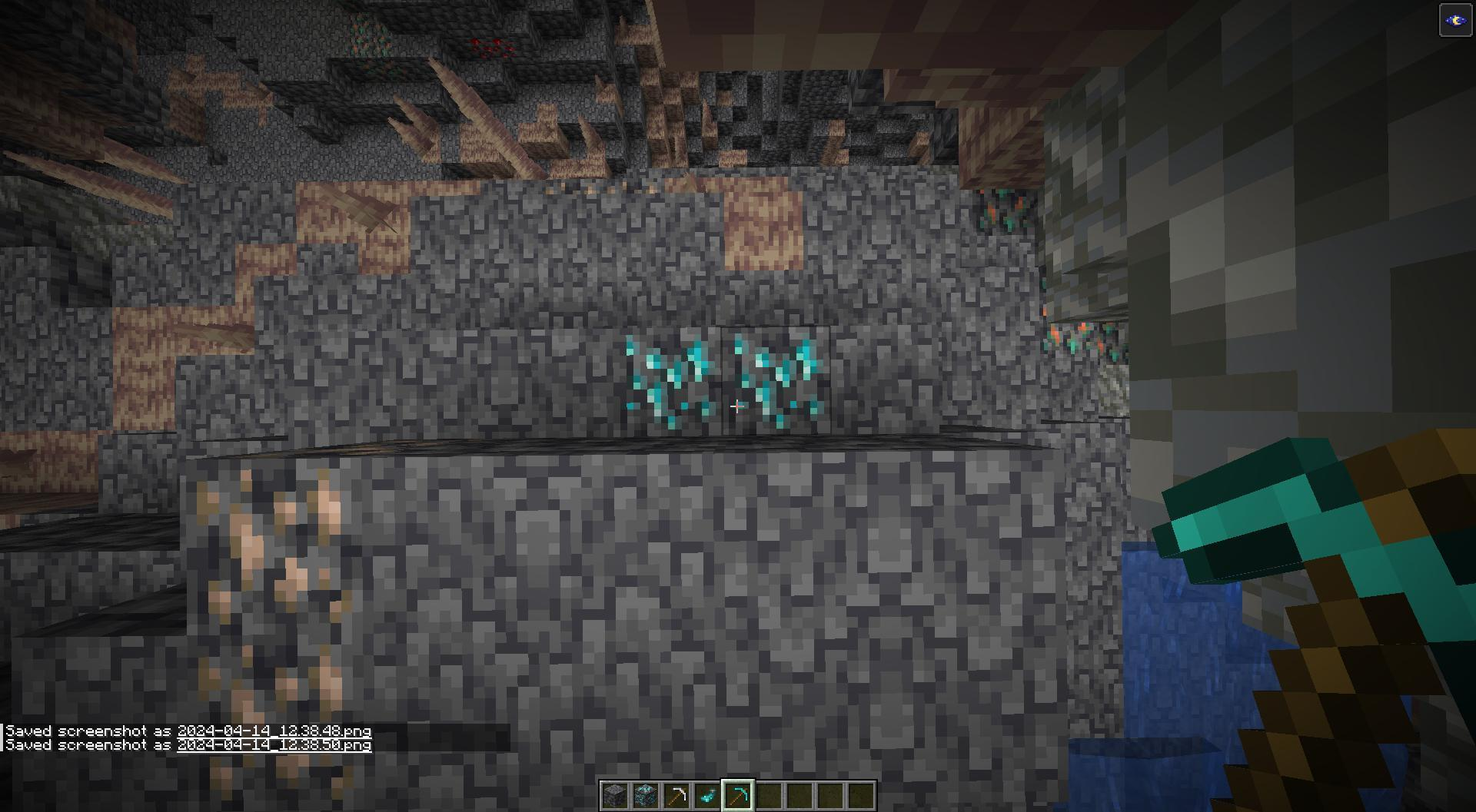diamond ore: (725, 331, 831, 437), (619, 331, 723, 436)
iron ore: (179, 461, 359, 638)
redstone ore: (471, 35, 518, 64)
